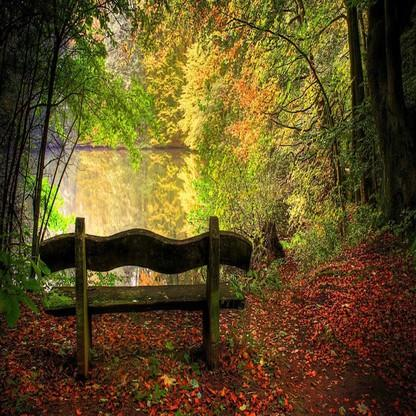obstacle: (28, 215, 255, 376)
